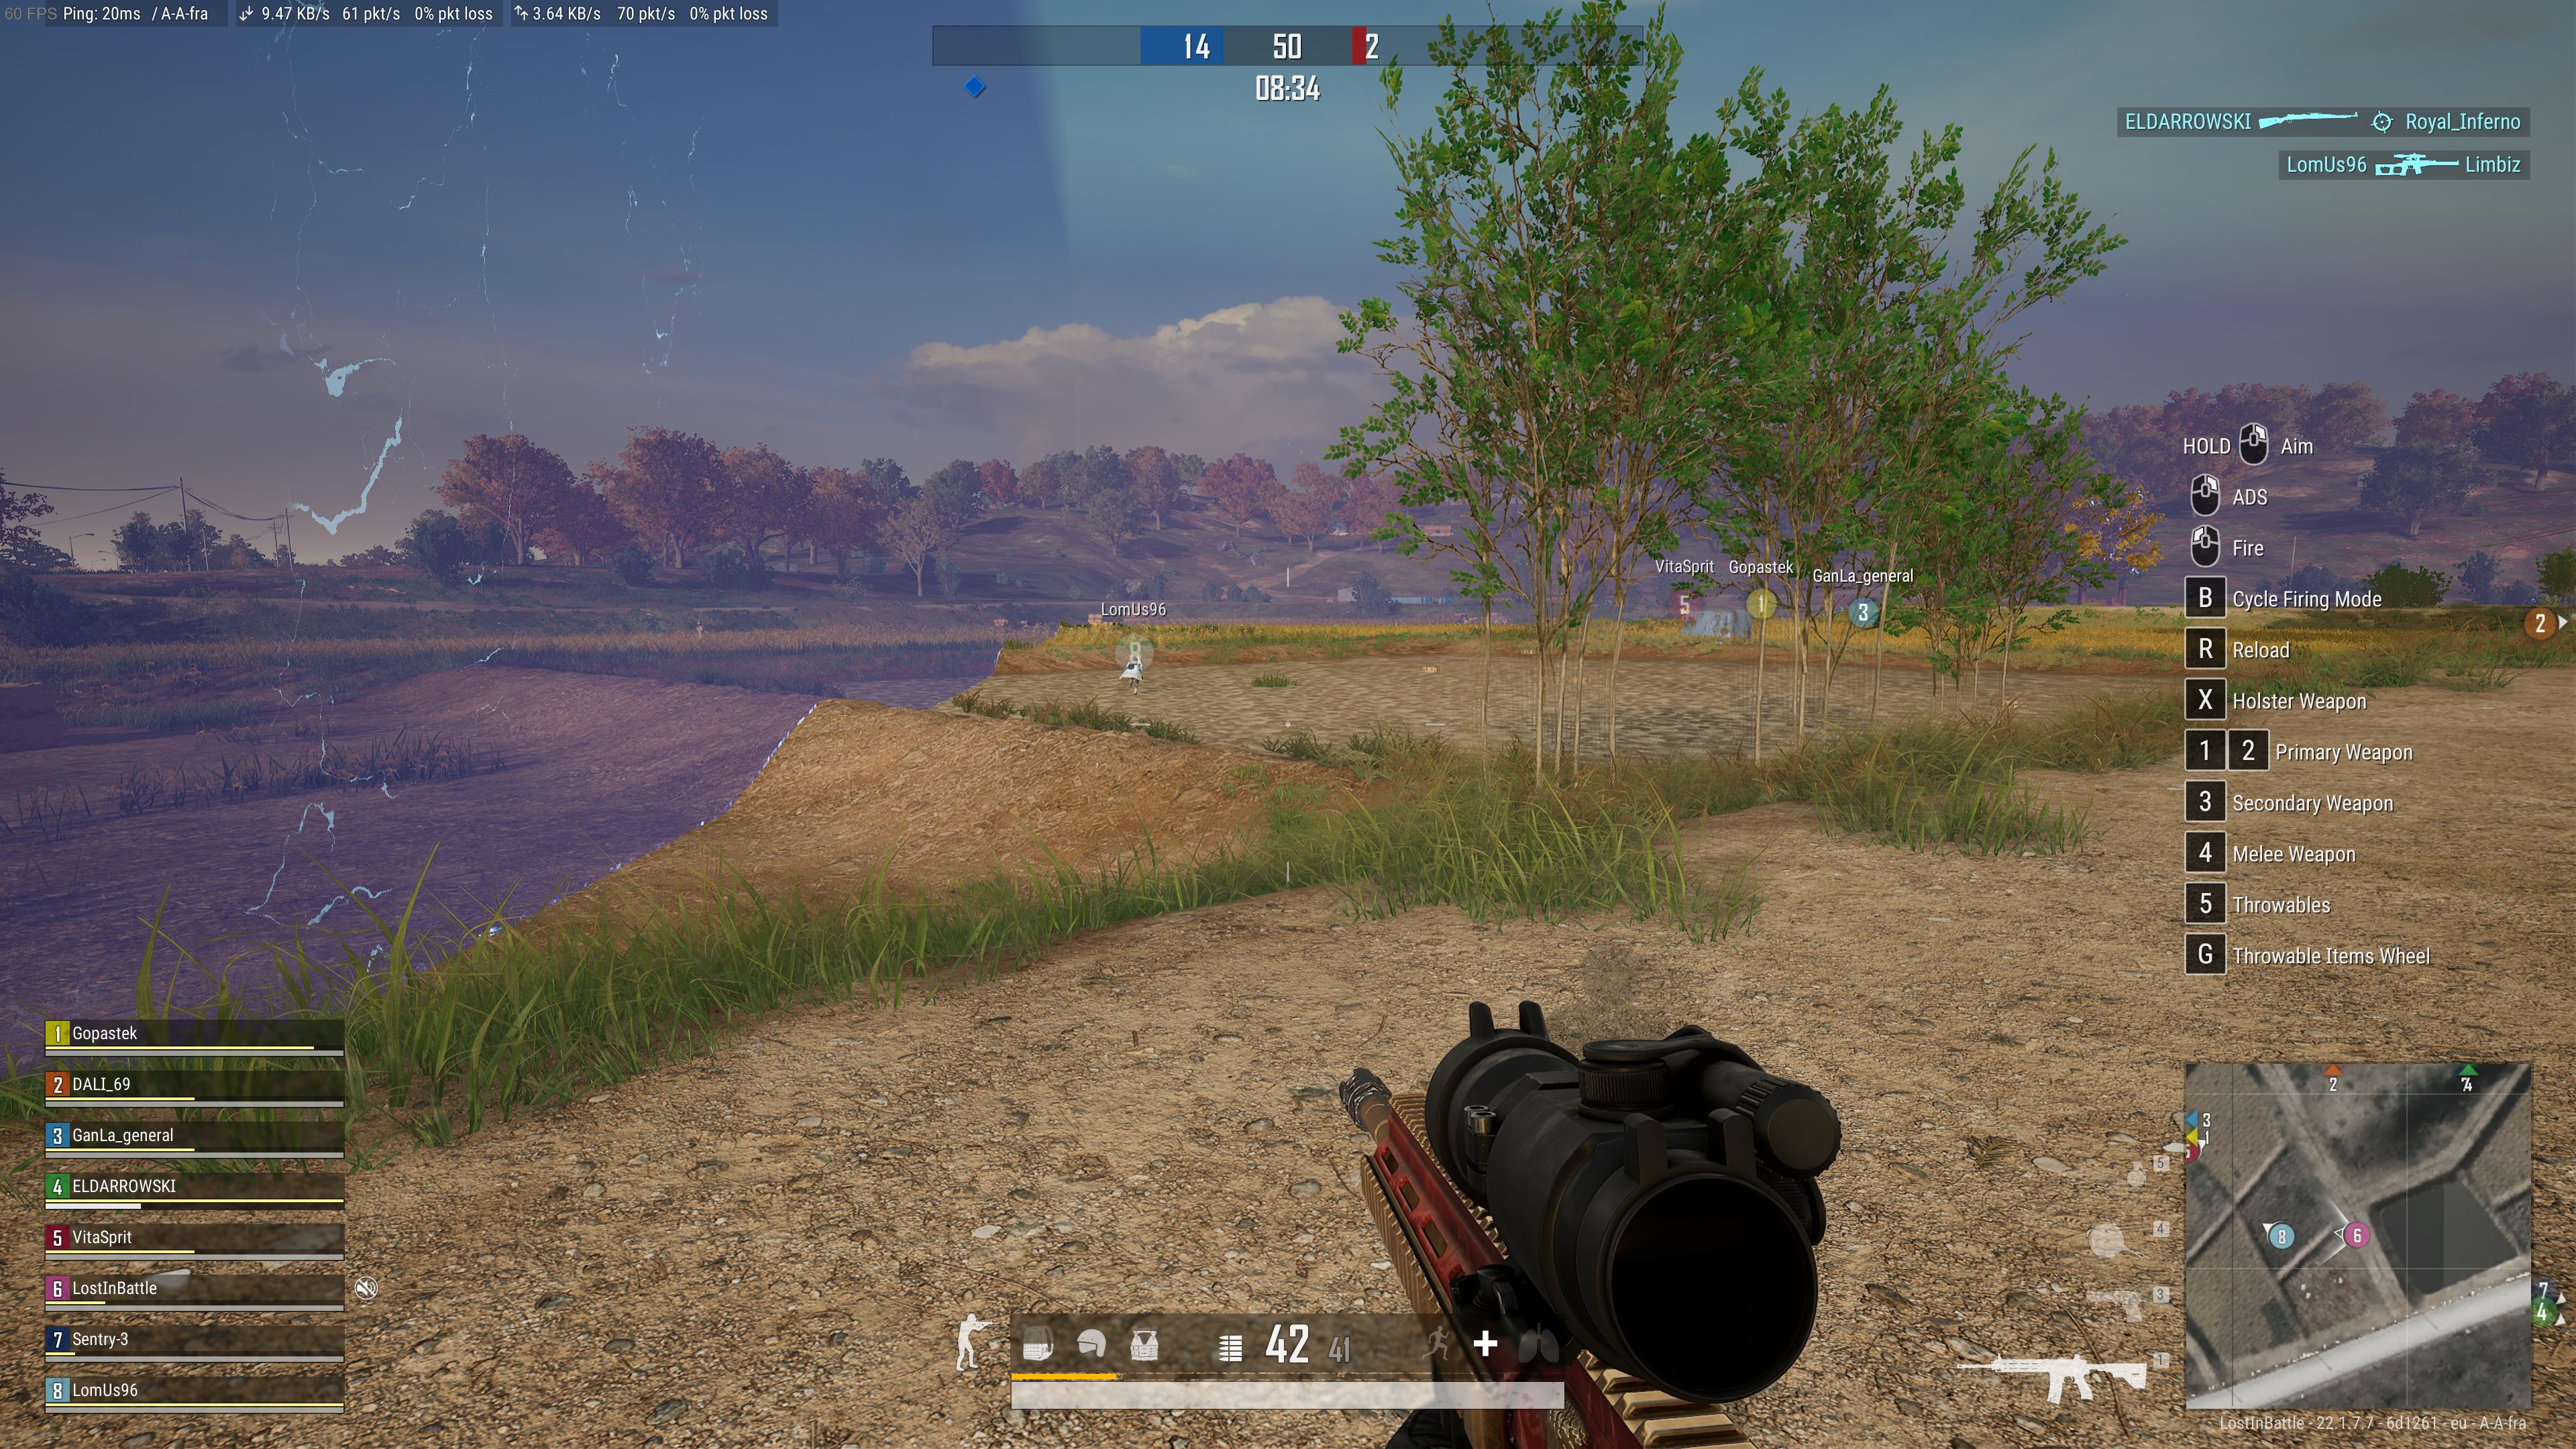friendly: (1120, 644, 1146, 697)
